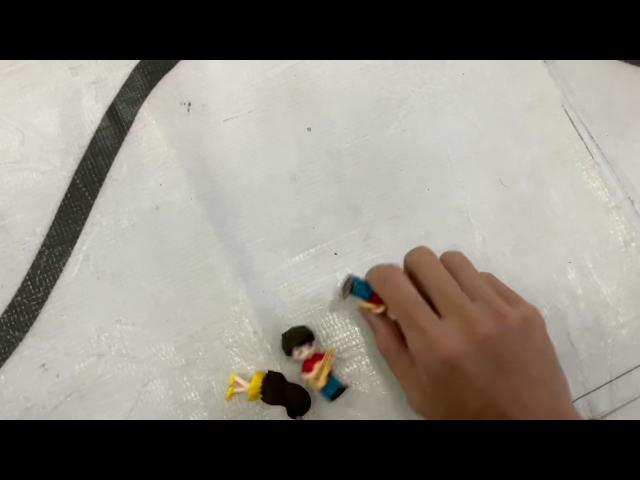man: (278, 322, 350, 402), (334, 272, 406, 326)
woman: (225, 366, 312, 418)
